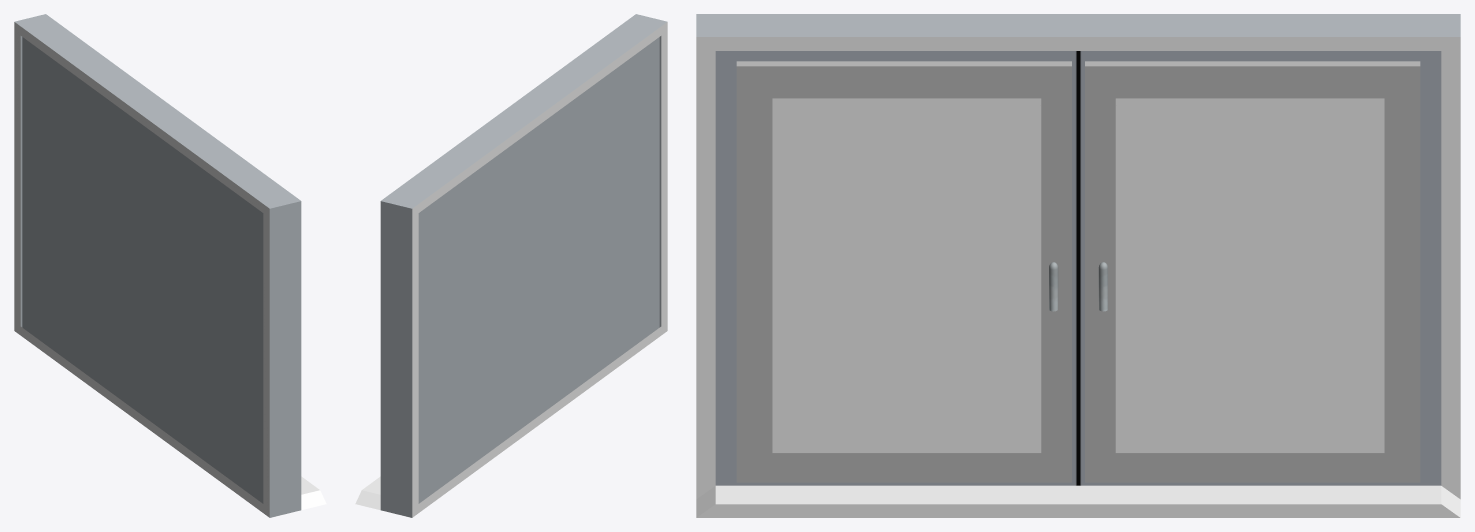
Rendered from ov_window.FBX.
The picture shows the model from 3 angles, left to right: view 1: azimuth 30°, elevation 25°; view 2: azimuth 150°, elevation 25°; view 3: azimuth 270°, elevation 25°; orthographic projection. The views are drawn at different scales.
Visible parts, largest first — view 1: Box001; view 2: Box001; view 3: Box001.
Part boxes in pixels (bbox=[...]): Box001: bbox=[14, 14, 326, 517]; Box001: bbox=[355, 14, 667, 517]; Box001: bbox=[696, 14, 1460, 517].
Bounding box in the file's own units: 7.44 × 38.64 × 57.88.
